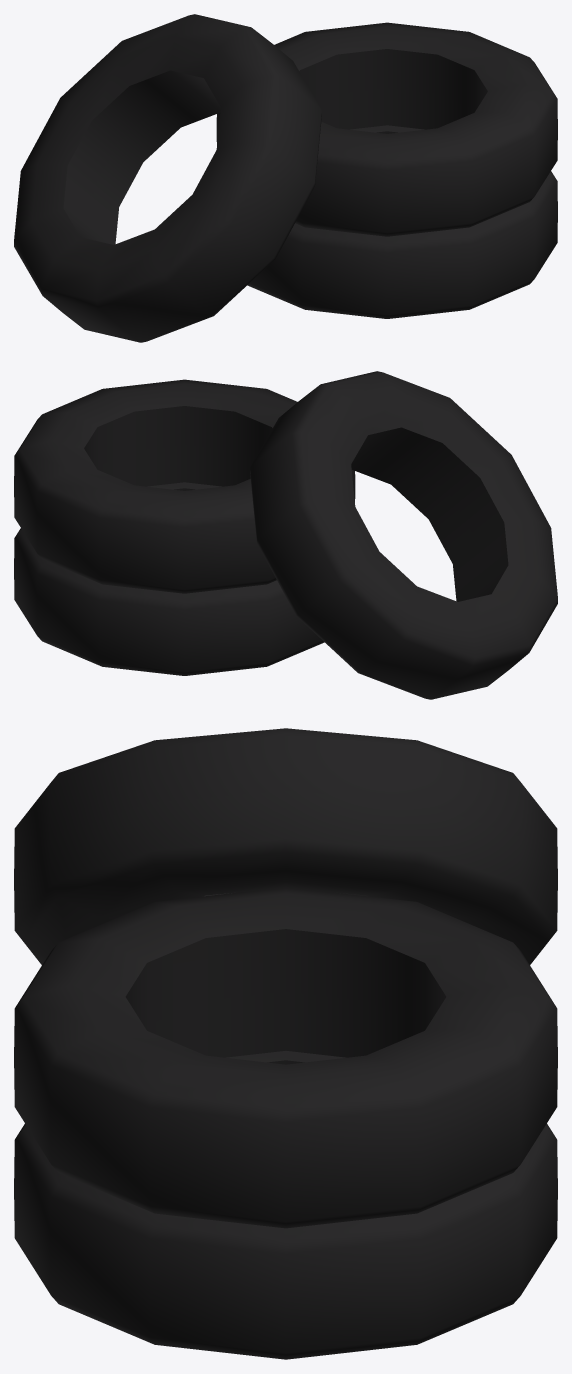
File: SM_Tire_Pack_02.fbx
3 views of the same model, one above another, from view 1: azimuth 30°, elevation 25°; view 2: azimuth 150°, elevation 25°; view 3: azimuth 270°, elevation 25° (orthographic). The views are drawn at different scales.
Visible parts, largest first — view 1: SM_Tire_Pack_02; view 2: SM_Tire_Pack_02; view 3: SM_Tire_Pack_02.
Part boxes in pixels (bbox=[...]): SM_Tire_Pack_02: bbox=[14, 14, 557, 342]; SM_Tire_Pack_02: bbox=[14, 371, 557, 699]; SM_Tire_Pack_02: bbox=[14, 728, 557, 1359].
Bounding box in the file's own units: 348 × 179 × 209.
